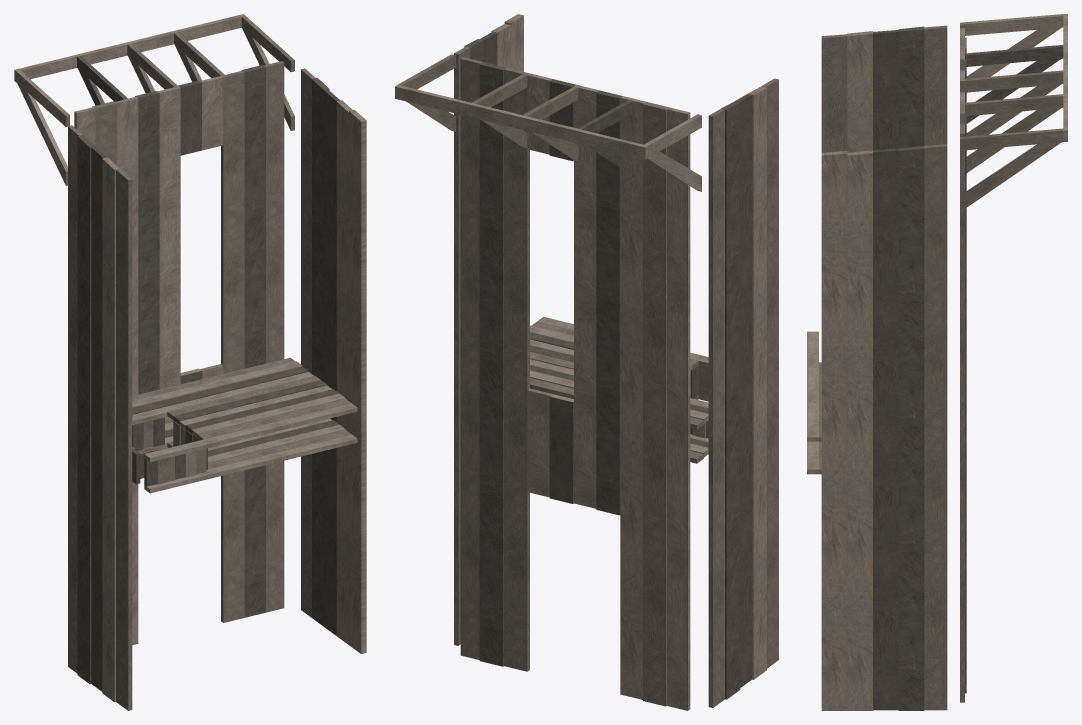
The model's file is OuthouseWallsFront.fbx.
3 views of the same model, side by side, from view 1: azimuth 30°, elevation 25°; view 2: azimuth 150°, elevation 25°; view 3: azimuth 270°, elevation 25° (orthographic). The views are drawn at different scales.
Visible parts, largest first — view 1: OuthouseWallsFront; view 2: OuthouseWallsFront; view 3: OuthouseWallsFront.
Boxes of the visible parts, box(x1,y1,x2,y2) form: OuthouseWallsFront: box(14, 14, 366, 710); OuthouseWallsFront: box(395, 14, 778, 710); OuthouseWallsFront: box(807, 14, 1067, 710).
Size of the model in its own units: 360 by 795 by 326.
